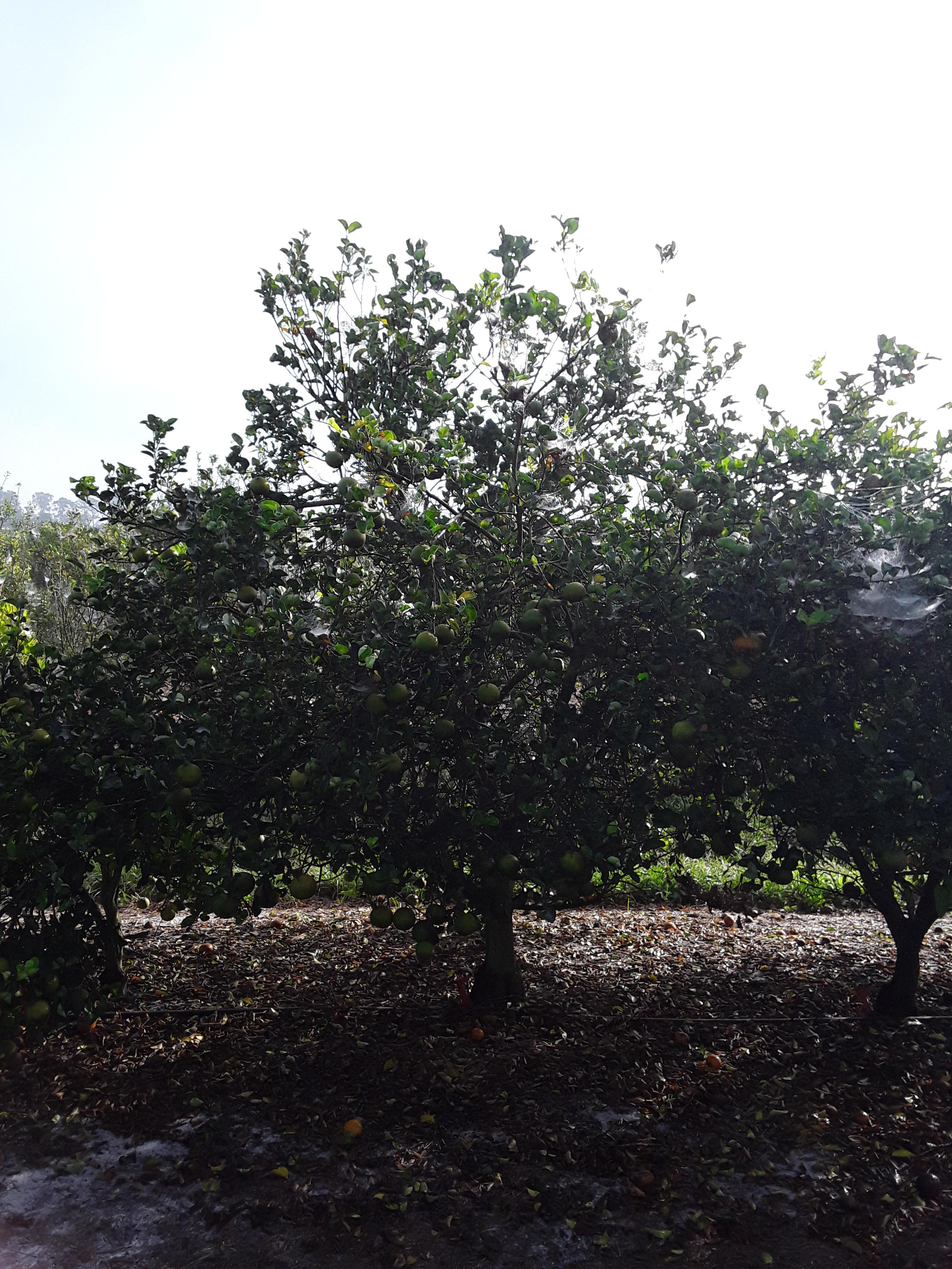fruit_on_ground: (793, 818, 826, 849), (876, 844, 910, 873), (286, 870, 318, 900), (668, 717, 700, 745), (557, 848, 589, 876), (253, 880, 281, 911), (410, 918, 441, 946), (408, 541, 439, 567), (211, 891, 240, 918), (287, 763, 316, 790), (709, 831, 737, 858), (453, 909, 480, 937), (474, 679, 502, 706), (422, 897, 451, 923), (697, 510, 726, 536), (363, 690, 390, 717), (520, 606, 547, 633), (24, 995, 52, 1021), (413, 629, 441, 655), (174, 761, 203, 786), (680, 834, 707, 860), (368, 901, 394, 928), (523, 647, 551, 672), (674, 487, 702, 512), (431, 714, 458, 739), (494, 850, 521, 875), (560, 580, 588, 604), (361, 872, 386, 898), (385, 680, 411, 705), (431, 622, 456, 647), (380, 752, 405, 777), (229, 872, 255, 896), (392, 905, 416, 931), (487, 617, 512, 641), (193, 659, 219, 682), (341, 526, 367, 549), (336, 475, 361, 498), (28, 724, 54, 746), (723, 774, 746, 798), (248, 473, 272, 496), (770, 865, 795, 887), (234, 582, 259, 604), (649, 655, 672, 678), (413, 940, 437, 961), (245, 831, 267, 853), (141, 632, 164, 653), (365, 510, 387, 531), (323, 449, 346, 469), (525, 397, 546, 418), (131, 544, 152, 564), (537, 905, 558, 923), (159, 546, 180, 563), (601, 386, 620, 404), (158, 905, 177, 923), (342, 572, 362, 589), (0, 951, 12, 976), (387, 585, 403, 602), (134, 895, 150, 910), (404, 893, 419, 907), (354, 609, 367, 621)
fruit_on_tree: (914, 1171, 943, 1200), (340, 1113, 366, 1140), (632, 1167, 656, 1189), (849, 1106, 872, 1128), (702, 1051, 724, 1072), (670, 1027, 690, 1046), (467, 1024, 486, 1044), (537, 905, 558, 922), (198, 942, 216, 957), (645, 969, 660, 983), (934, 937, 948, 950), (269, 916, 284, 928), (722, 914, 735, 926), (662, 921, 677, 931), (719, 911, 731, 922), (742, 916, 754, 925)
